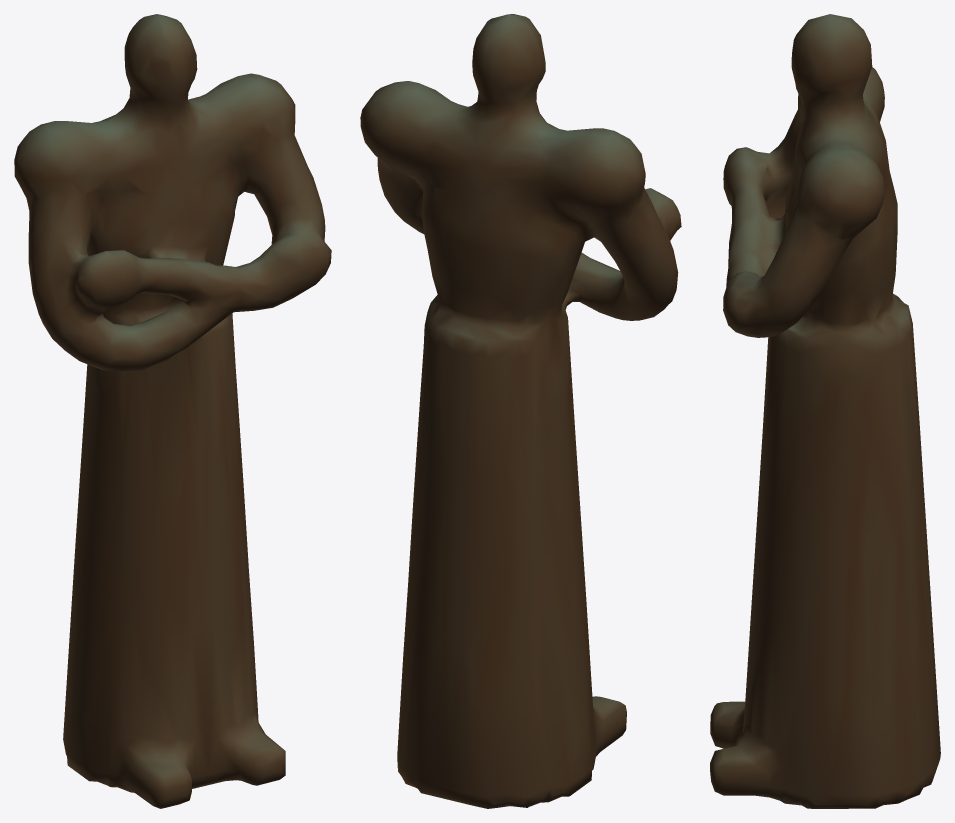
File: street4.glb
The picture shows the model from 3 angles, left to right: view 1: azimuth 30°, elevation 25°; view 2: azimuth 150°, elevation 25°; view 3: azimuth 270°, elevation 25°; orthographic projection.
Visible parts, largest first — view 1: sv_m; view 2: sv_m; view 3: sv_m.
Part boxes in pixels (box(x1,y1,x2,y2)): sv_m: box(14, 14, 331, 808); sv_m: box(360, 14, 681, 808); sv_m: box(710, 14, 940, 808).
Size of the model in its own units: 0.3993 by 1 by 0.2784.
